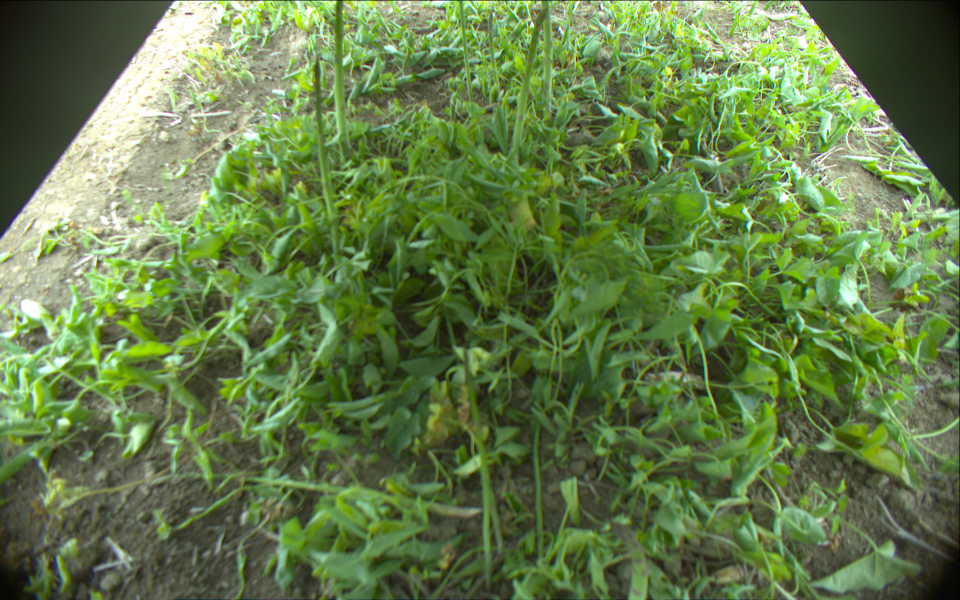aspa: (150, 472, 477, 516), (511, 7, 549, 157), (311, 59, 339, 223), (334, 1, 354, 156), (613, 521, 650, 600), (458, 1, 475, 110), (538, 1, 551, 111), (489, 8, 502, 90)
